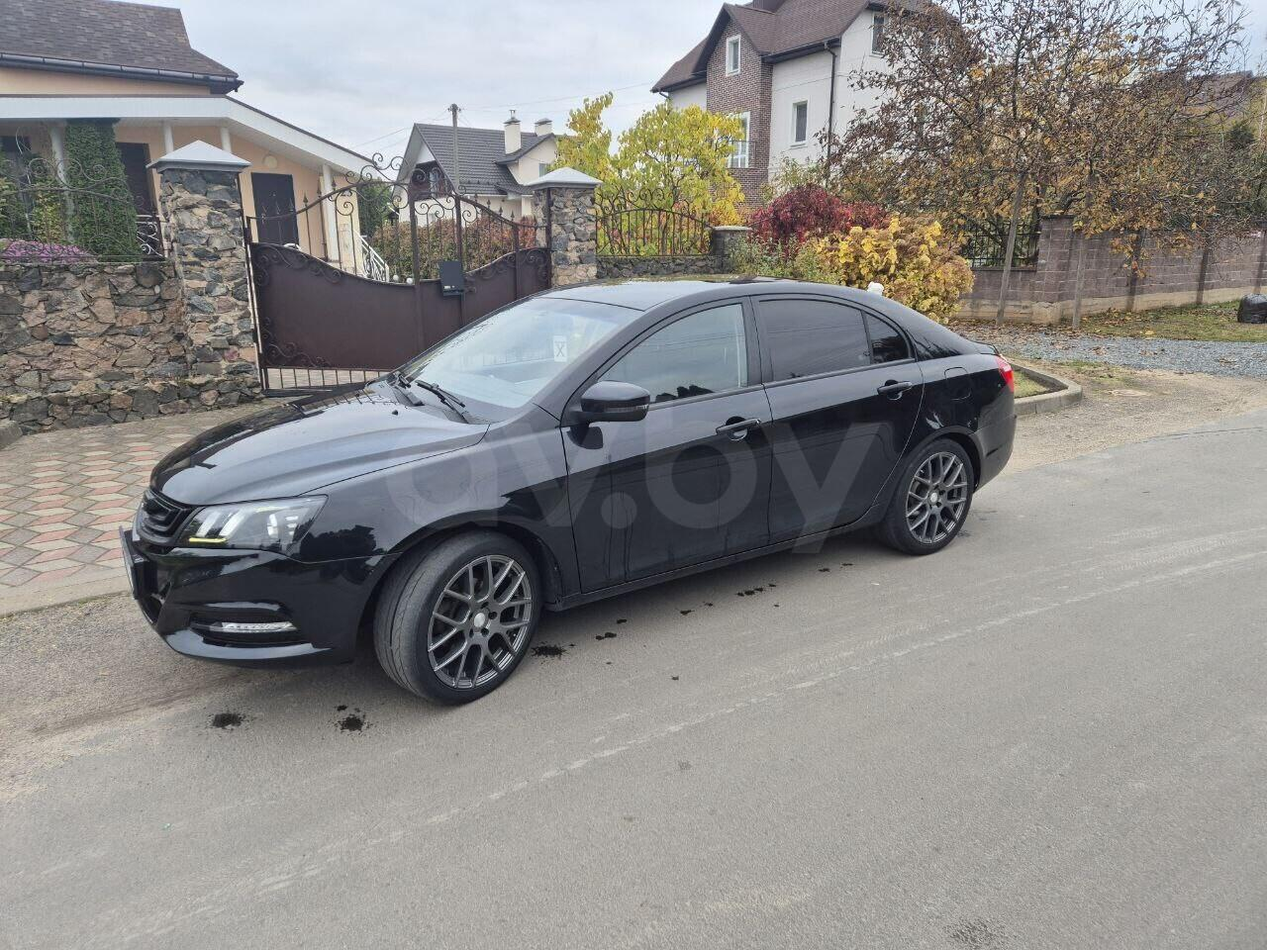Emgrand_2019-2021: (121, 278, 1015, 704)
